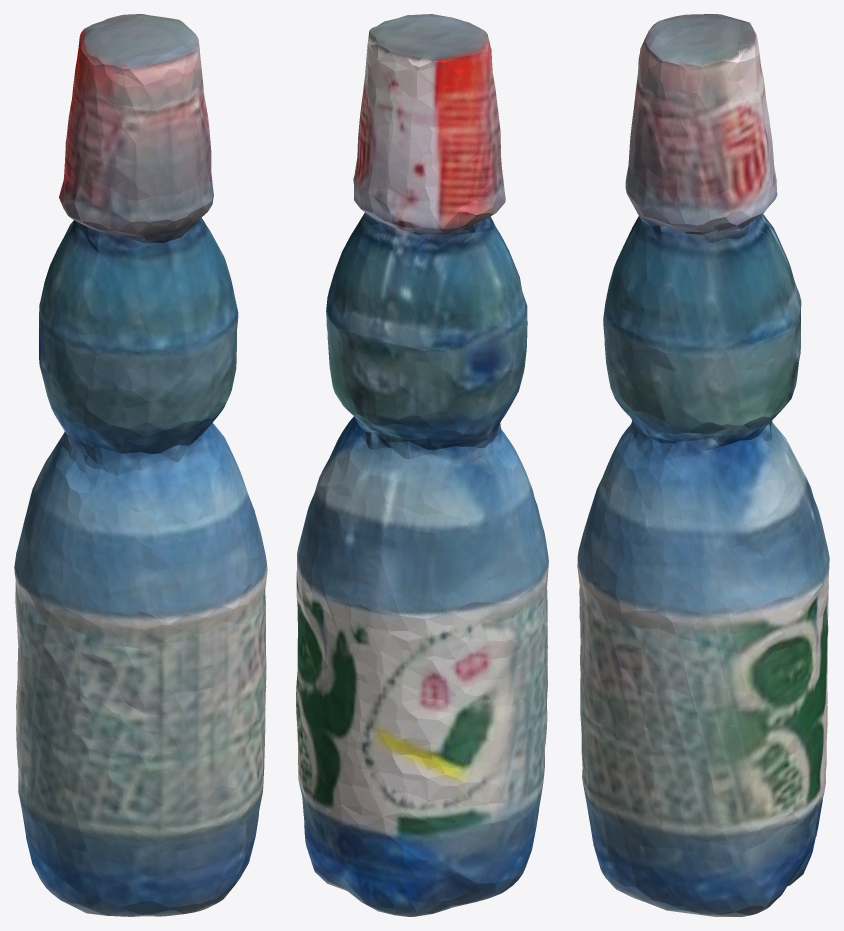
File: 汽水b.glb
The picture shows the model from 3 angles, left to right: view 1: azimuth 30°, elevation 25°; view 2: azimuth 150°, elevation 25°; view 3: azimuth 270°, elevation 25°; orthographic projection.
Visible parts, largest first — view 1: 6e82ae03-c833-403c-9142-2037e9890cfe; view 2: 6e82ae03-c833-403c-9142-2037e9890cfe; view 3: 6e82ae03-c833-403c-9142-2037e9890cfe.
Boxes of the visible parts, x1,y1,x2,y2 form: 6e82ae03-c833-403c-9142-2037e9890cfe: (14,14,267,916); 6e82ae03-c833-403c-9142-2037e9890cfe: (296,14,548,916); 6e82ae03-c833-403c-9142-2037e9890cfe: (577,14,829,916).
Bounding box in the file's own units: 0.1579 × 0.5825 × 0.1564.
Materials: 1 (1 with a texture image).
